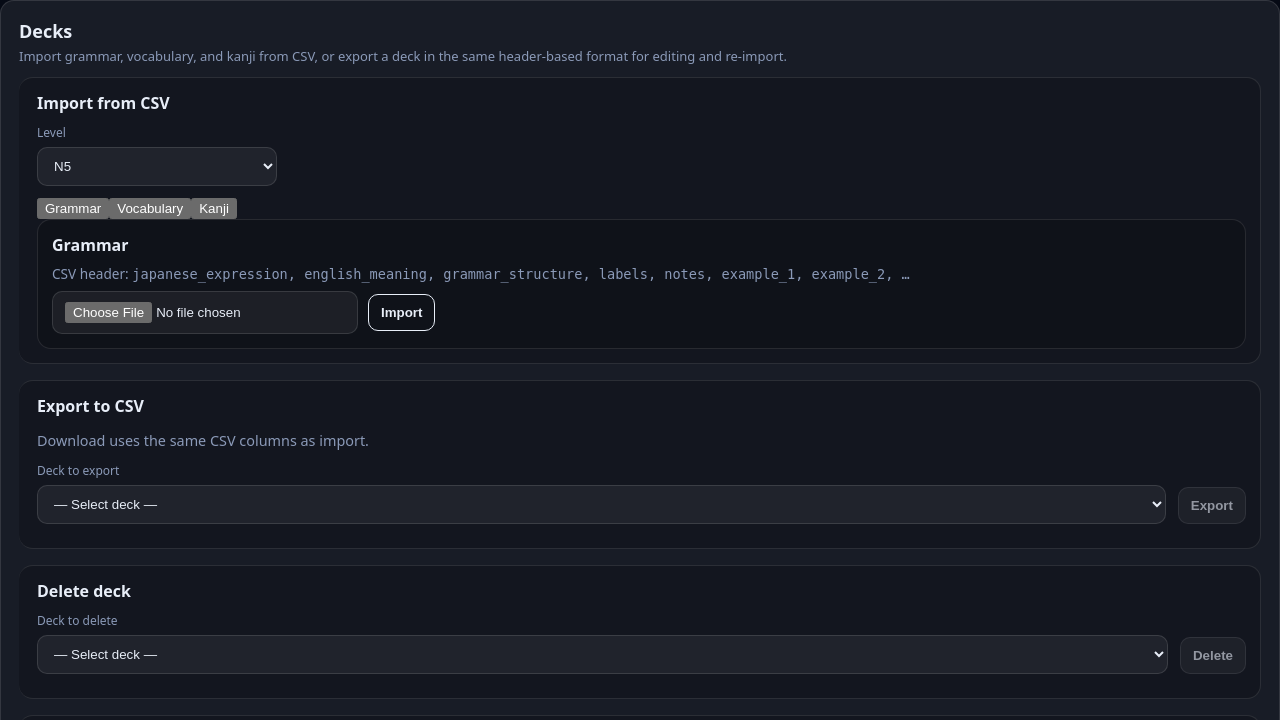
Test: ImportTab › disables Delete until a deck is selected
The image size is (1280, 720).
Expected: the button named "delete selected deck" is disabled, [1180,637,1246,674]
Select "Deck One" in the dropdown labelled "Deck to delete" at (602, 655), box [37,635,1168,674]
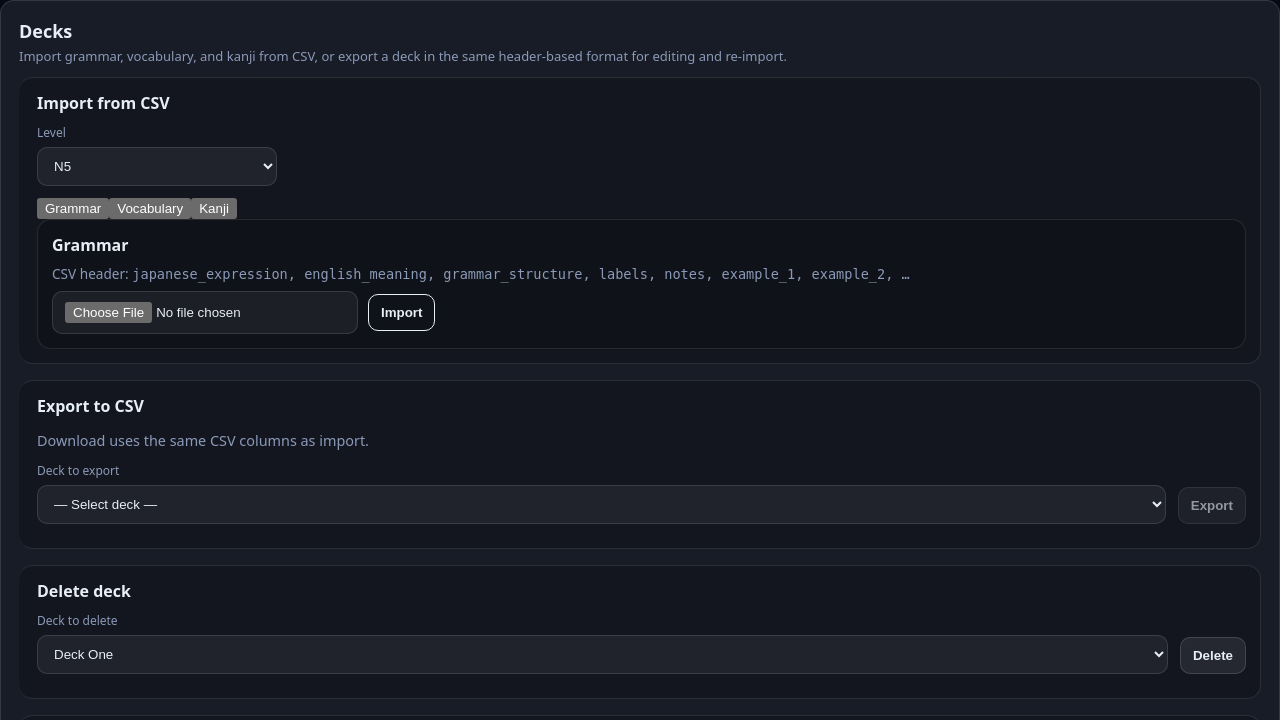
Result: the button named "delete selected deck" is enabled at [1180,637,1246,674]
